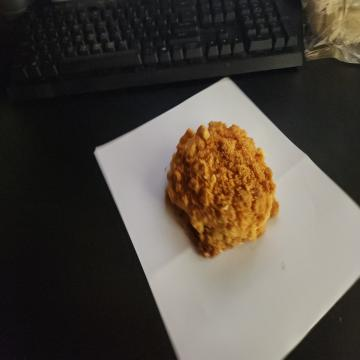soboru_bread: (164, 118, 280, 263)
